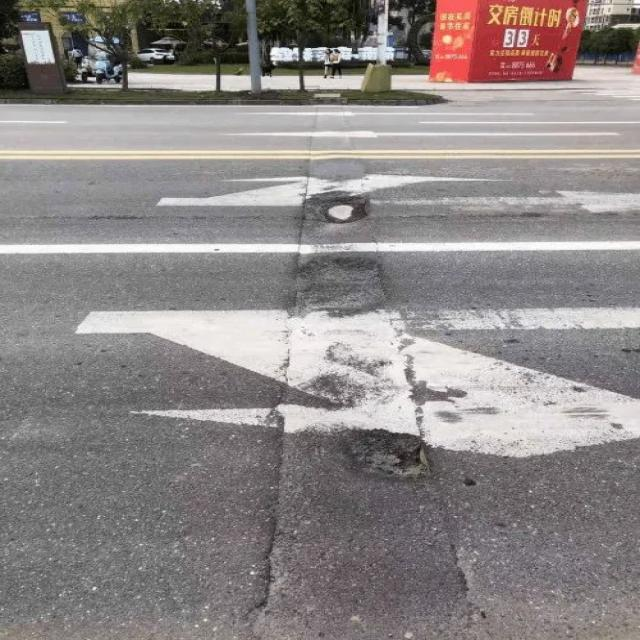Pothole: (339, 426, 442, 484), (315, 193, 372, 225)
